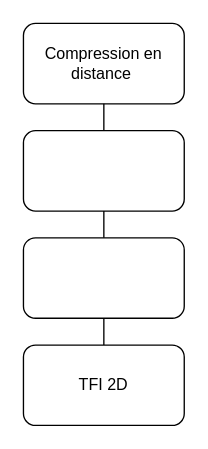
This 208x449 diagram has some shape labels left out. The shapes that lost their labels are listed below. From the top down, each one's centre as x and y in pixels, then its label:
the point at 103,170: Filtrage en azimut
the point at 103,277: Interpolation de Stolt
